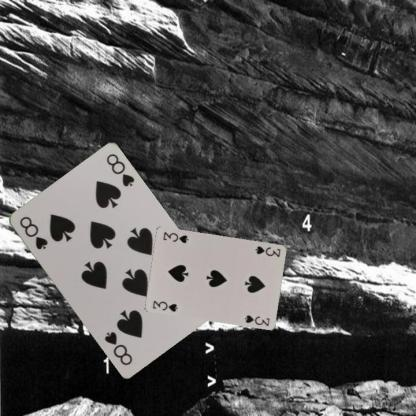3s: (252, 244, 282, 258), (150, 298, 179, 312)
8s: (16, 214, 49, 251)
